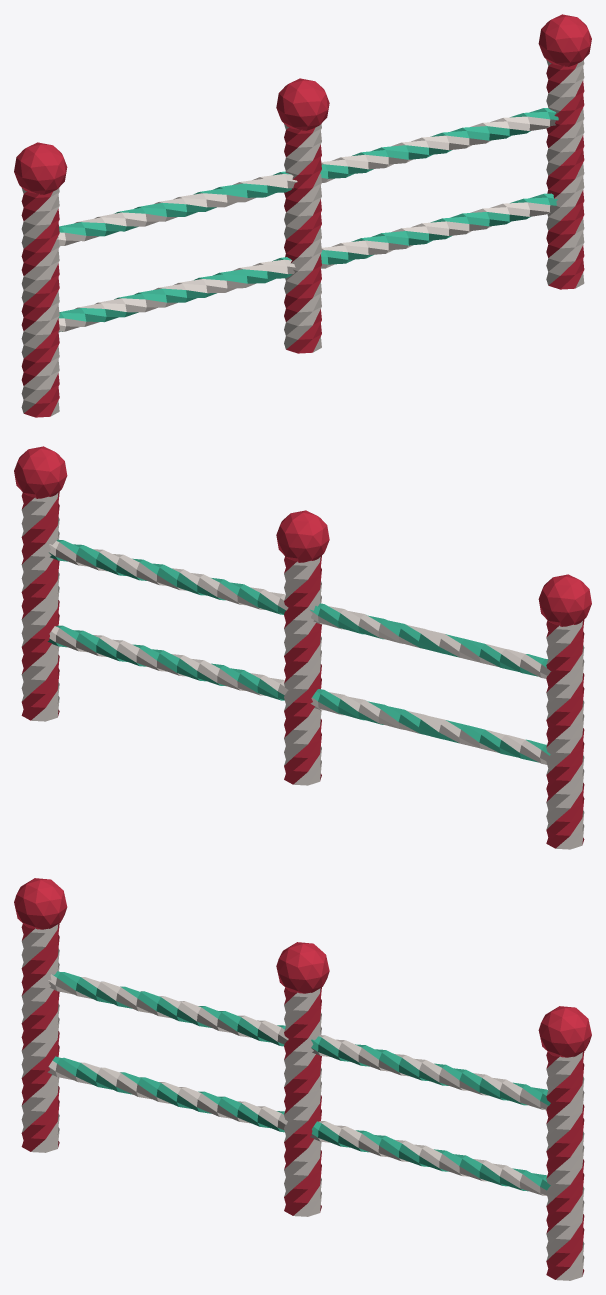
File: Fence_CandyCane.glb
The picture shows the model from 3 angles, top to bottom: view 1: azimuth 30°, elevation 25°; view 2: azimuth 150°, elevation 25°; view 3: azimuth 330°, elevation 25°; orthographic projection.
Visible parts, largest first — view 1: Fence_CandyCane; view 2: Fence_CandyCane; view 3: Fence_CandyCane.
Part boxes in pixels (x1,y1,x2,y2): Fence_CandyCane: (14,14,591,417); Fence_CandyCane: (14,446,591,849); Fence_CandyCane: (14,878,591,1280).
Bounding box in the file's own units: 8.68 × 3.86 × 0.72.
